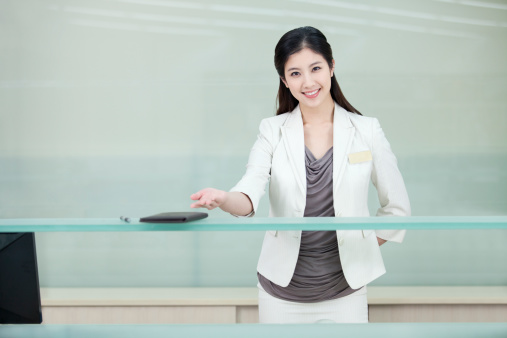em pe: (205, 12, 413, 311)
